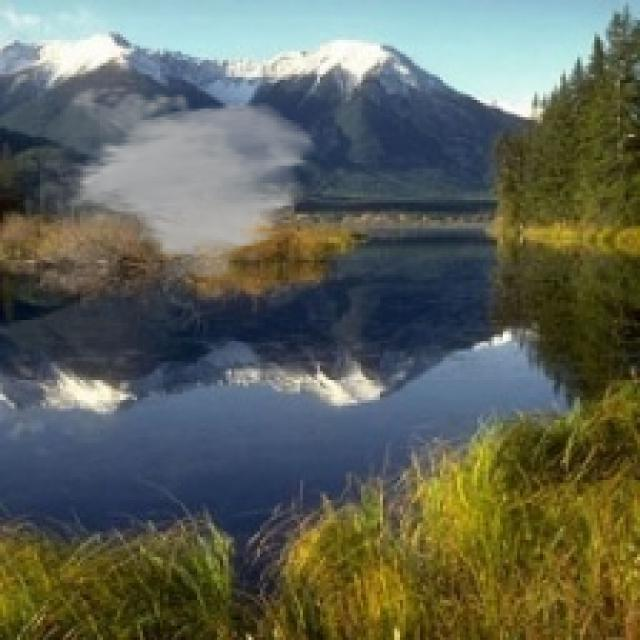Smoke: (40, 80, 320, 286)
